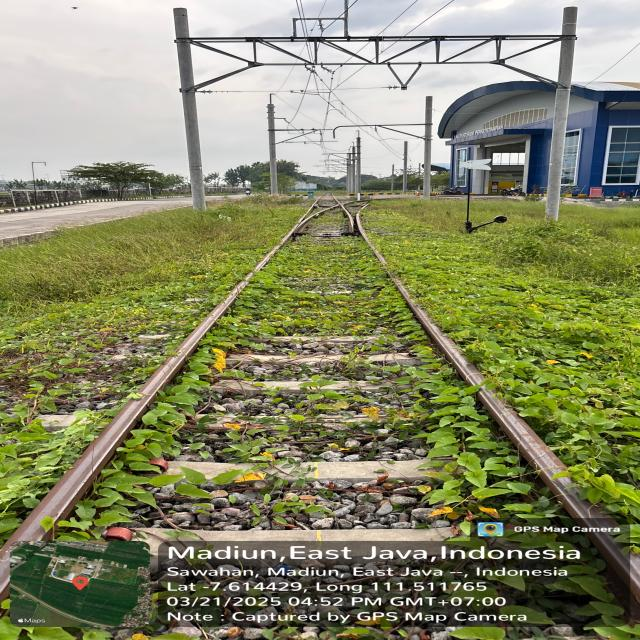rail-detection: (0, 210, 326, 600), (0, 272, 255, 597), (477, 387, 611, 526), (388, 271, 485, 385), (590, 533, 640, 601), (355, 211, 386, 269), (340, 203, 354, 233)
